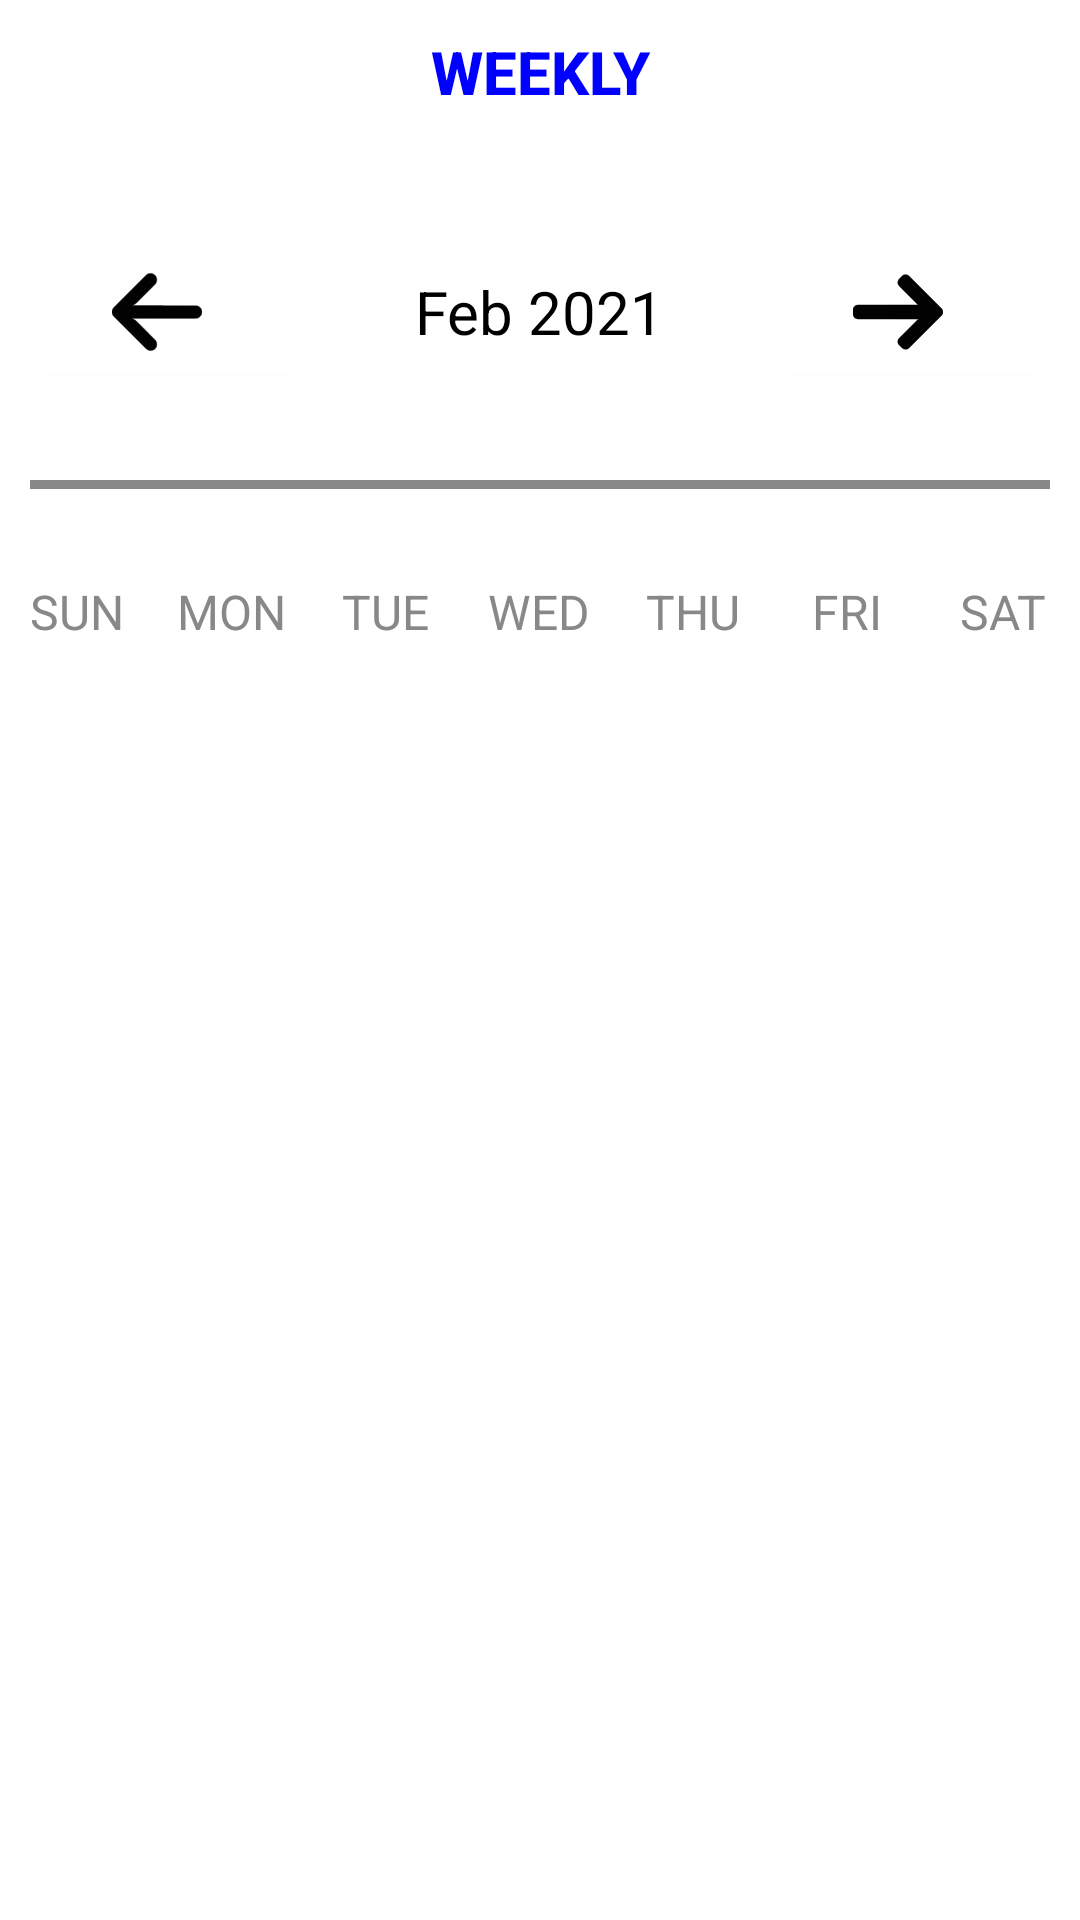

Named icons in this screenshot (1080*1920) and their centers, point (x, y):
left arrow: point (157, 312)
right arrow: point (898, 312)
